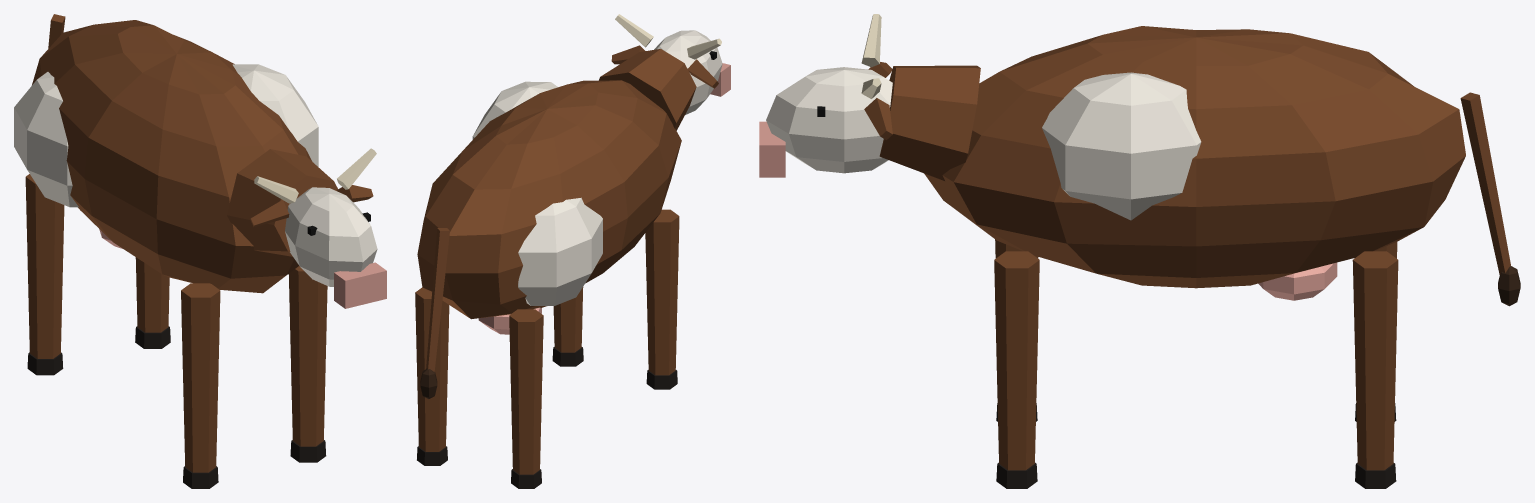
Rendered from Animal_Cow.obj.
3 views of the same model, side by side, from view 1: azimuth 30°, elevation 25°; view 2: azimuth 150°, elevation 25°; view 3: azimuth 270°, elevation 25° (orthographic). The views are drawn at different scales.
Visible parts, largest first — view 1: Animal_Cow; view 2: Animal_Cow; view 3: Animal_Cow.
Boxes of the visible parts, x1=… form: Animal_Cow: x1=14, y1=14, x2=386, y2=488; Animal_Cow: x1=415, y1=14, x2=730, y2=488; Animal_Cow: x1=759, y1=14, x2=1520, y2=488.
Bounding box in the file's own units: 0.8194 × 1.4 × 2.33.
